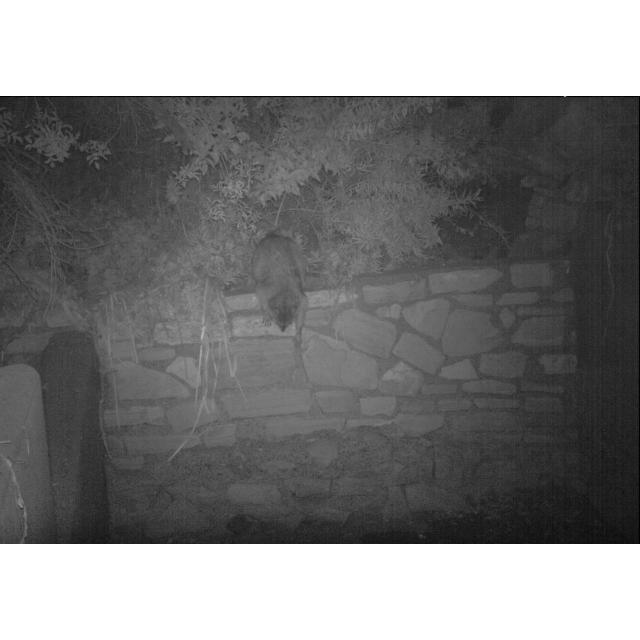animals: (254, 235, 308, 335)
